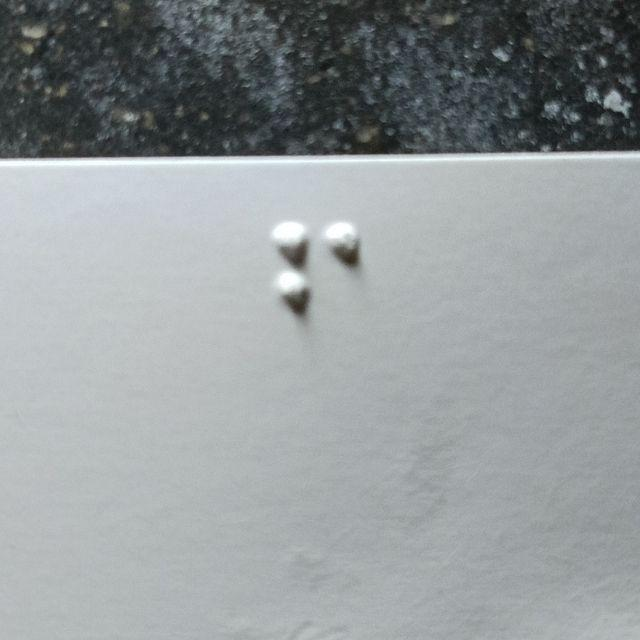f: (275, 219, 362, 355)
